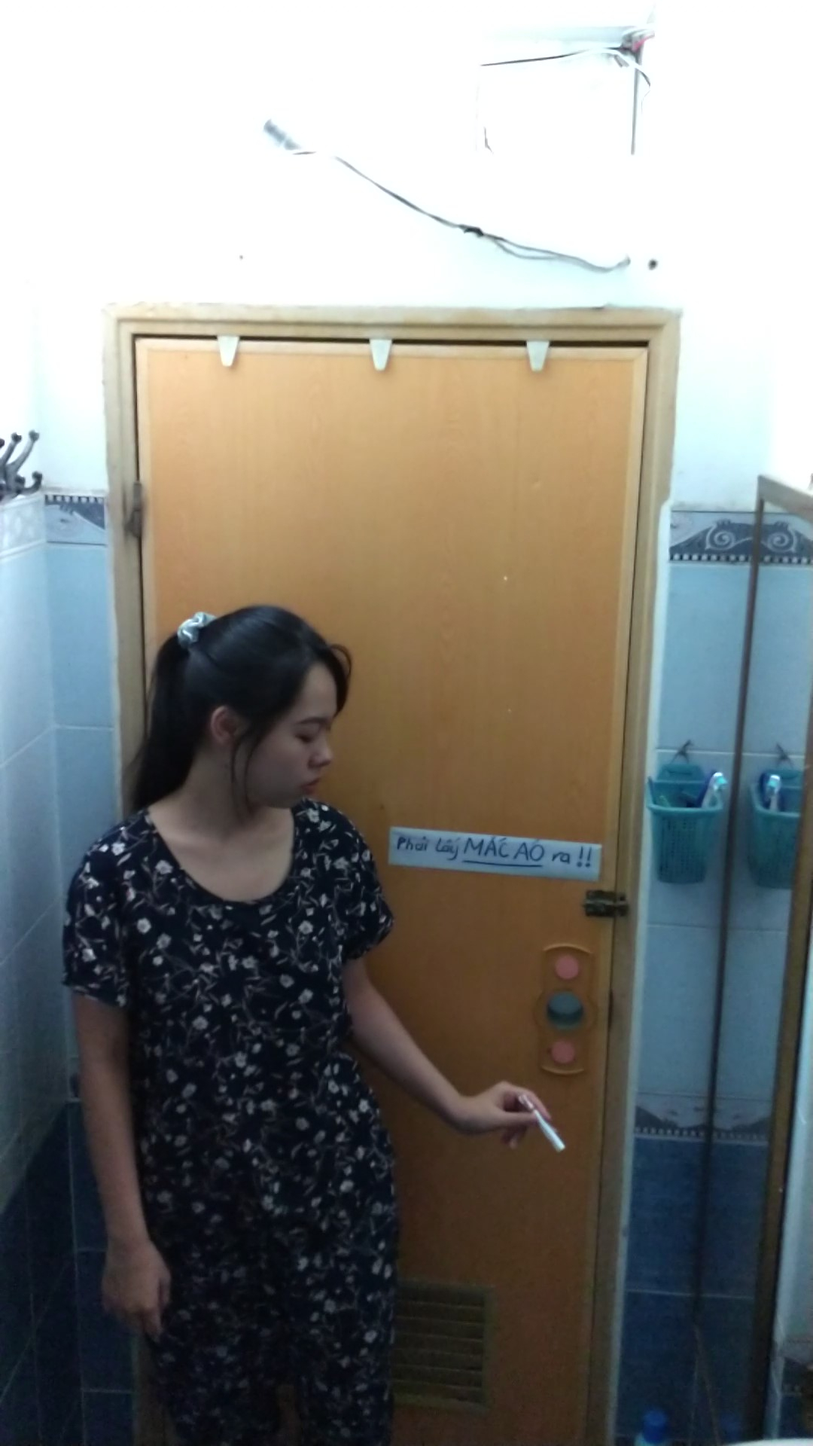cigarette: (535, 1115, 570, 1158)
person: (32, 587, 557, 1441)
